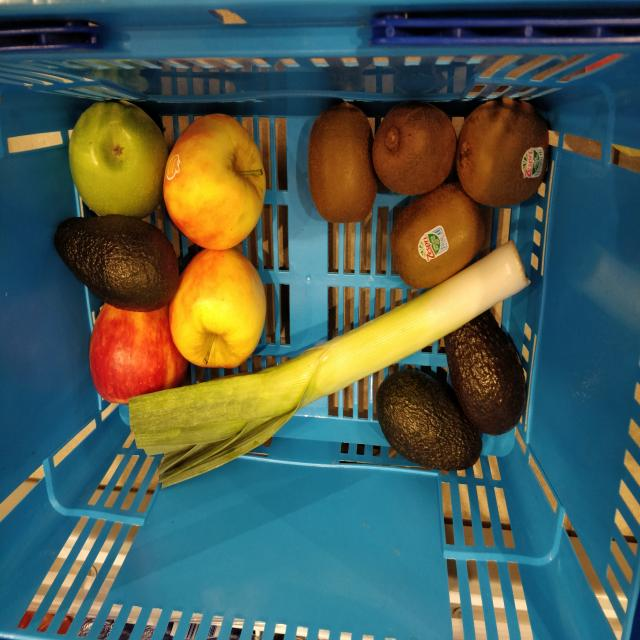Apple: (161, 114, 268, 254), (168, 251, 268, 373), (66, 101, 167, 220), (88, 304, 193, 406)
Avocado: (51, 216, 182, 312), (373, 367, 485, 475), (440, 315, 530, 438)
